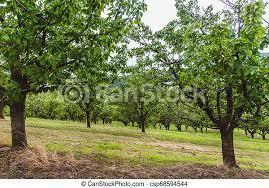tree: (143, 1, 268, 170), (1, 1, 131, 147)
